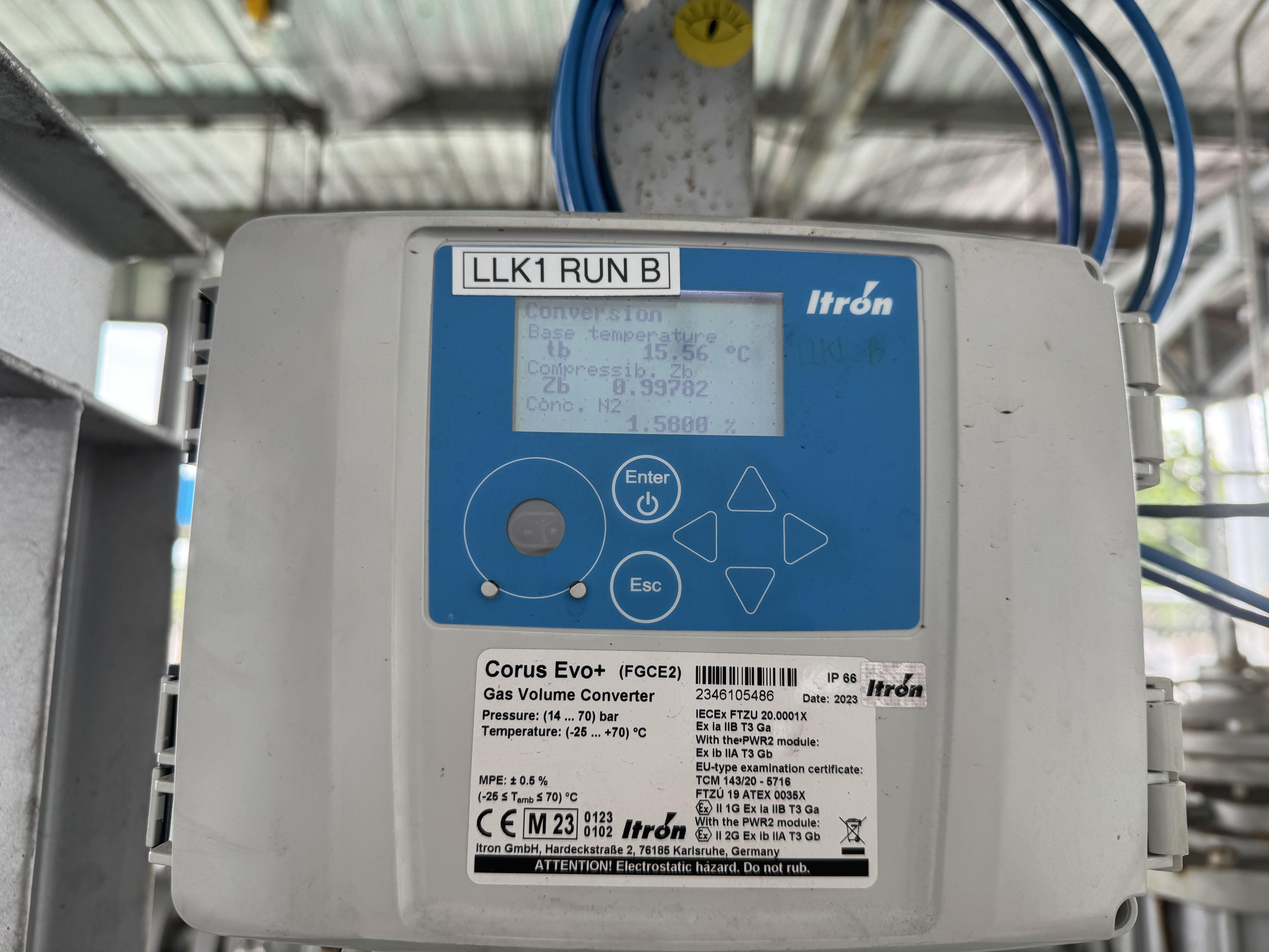digital_screen: (513, 288, 788, 435)
